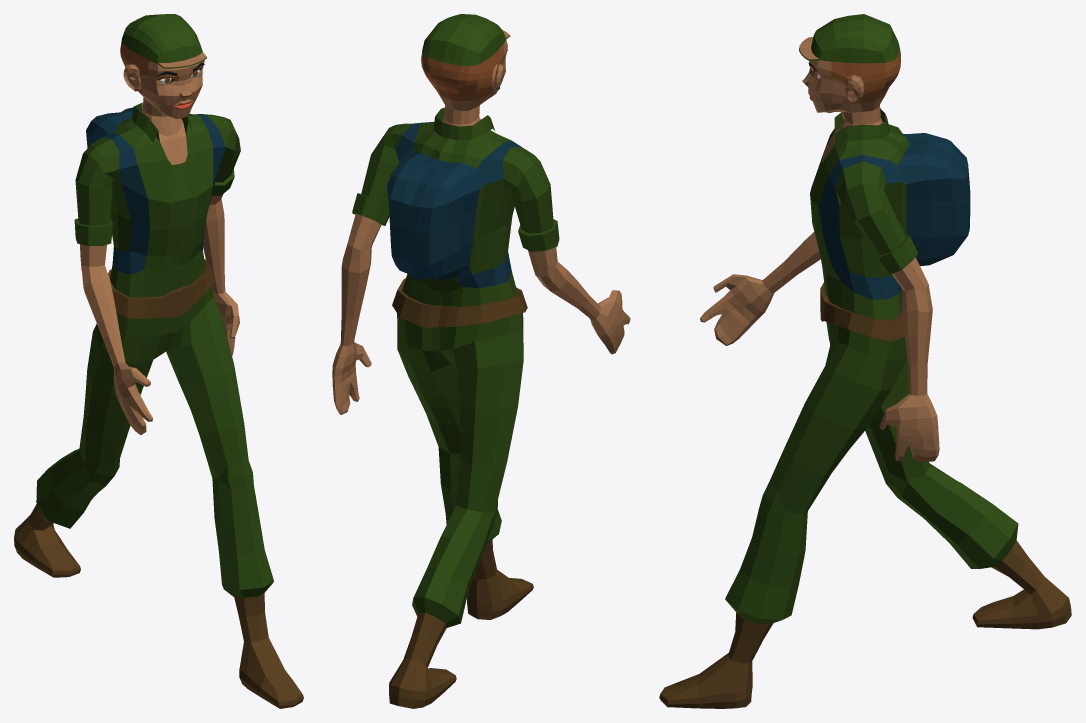
Rendered from Soldier_Walk.fbx.
3 views of the same model, side by side, from view 1: azimuth 30°, elevation 25°; view 2: azimuth 150°, elevation 25°; view 3: azimuth 270°, elevation 25° (orthographic). The views are drawn at different scales.
Visible parts, largest first — view 1: Soldier_Walk; view 2: Soldier_Walk; view 3: Soldier_Walk.
Part boxes in pixels (x1,y1,x2,y2): Soldier_Walk: (14, 14, 303, 708); Soldier_Walk: (332, 14, 630, 708); Soldier_Walk: (659, 14, 1071, 708).
Size of the model in its own units: 0.3234 by 1.02 by 0.5758.
